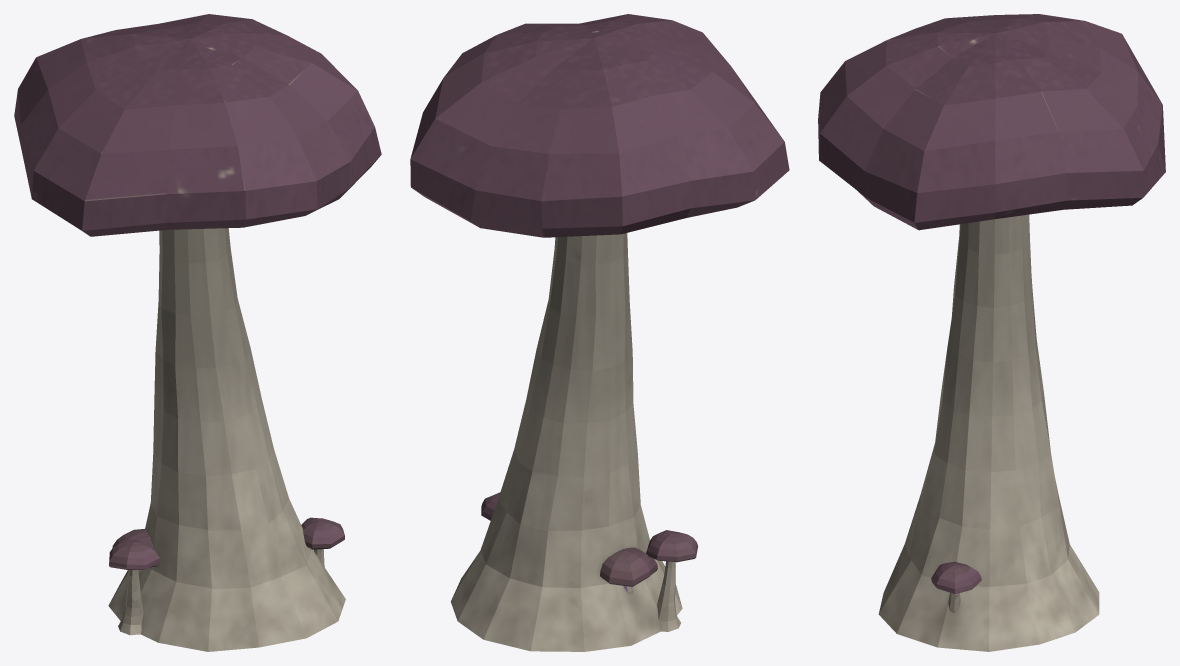
The model's file is cogumelo_gigante_a.glb.
The picture shows the model from 3 angles, left to right: view 1: azimuth 30°, elevation 25°; view 2: azimuth 150°, elevation 25°; view 3: azimuth 270°, elevation 25°; orthographic projection. The views are drawn at different scales.
Parts seen in each view (by area): view 1: cogumelo_gigante_a; view 2: cogumelo_gigante_a; view 3: cogumelo_gigante_a.
Boxes of the visible parts, <box> form: cogumelo_gigante_a: <box>14,14,381,651</box>; cogumelo_gigante_a: <box>410,14,789,651</box>; cogumelo_gigante_a: <box>818,14,1165,651</box>.
Size of the model in its own units: 0.92 by 1.6 by 0.911.
Materials: 2 (1 with a texture image).
